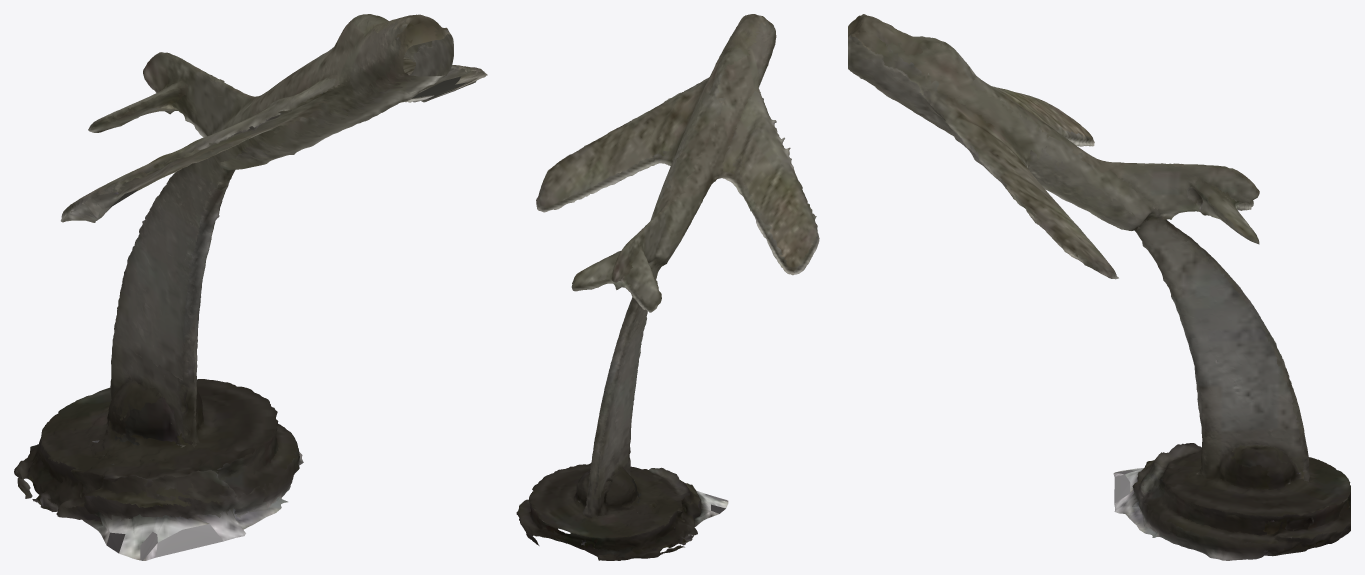
File: may-bay.glb
3 views of the same model, side by side, from view 1: azimuth 30°, elevation 25°; view 2: azimuth 150°, elevation 25°; view 3: azimuth 270°, elevation 25° (orthographic). The views are drawn at different scales.
Visible parts, largest first — view 1: Object_2; view 2: Object_2; view 3: Object_2.
Part boxes in pixels (x1=…): Object_2: x1=14, y1=14, x2=487, y2=560; Object_2: x1=516, y1=14, x2=819, y2=560; Object_2: x1=848, y1=14, x2=1350, y2=560.
Size of the model in its own units: 0.1362 by 0.196 by 0.1784.
1 material, 1 textured.
